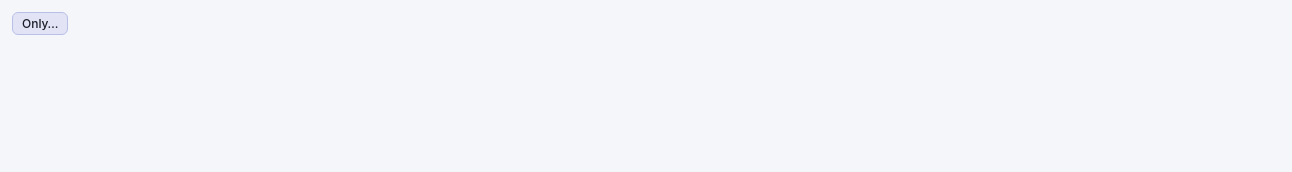
Test case: AttributeFilterControl › opens the picker on click while nothing is chosen
This screenshot has width=1292, height=172.
Click the button "Only…" at {"x": 40, "y": 24}, box [12,12,68,35]
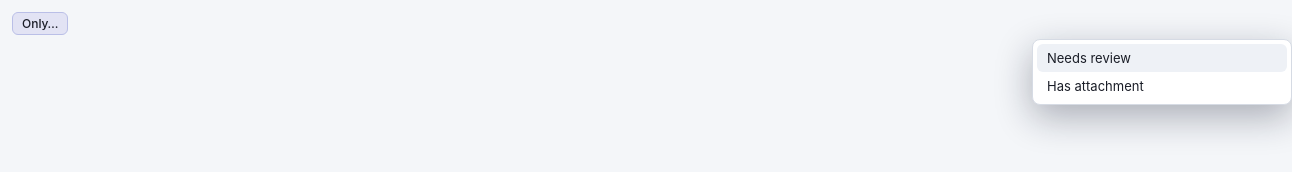
Expected: the text "Has attachment" is shown, [1047,78,1144,94]
